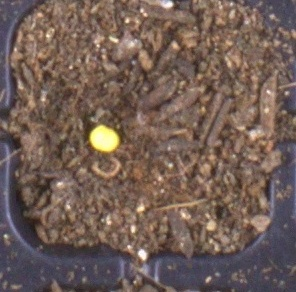chilli seed: (88, 124, 120, 152)
